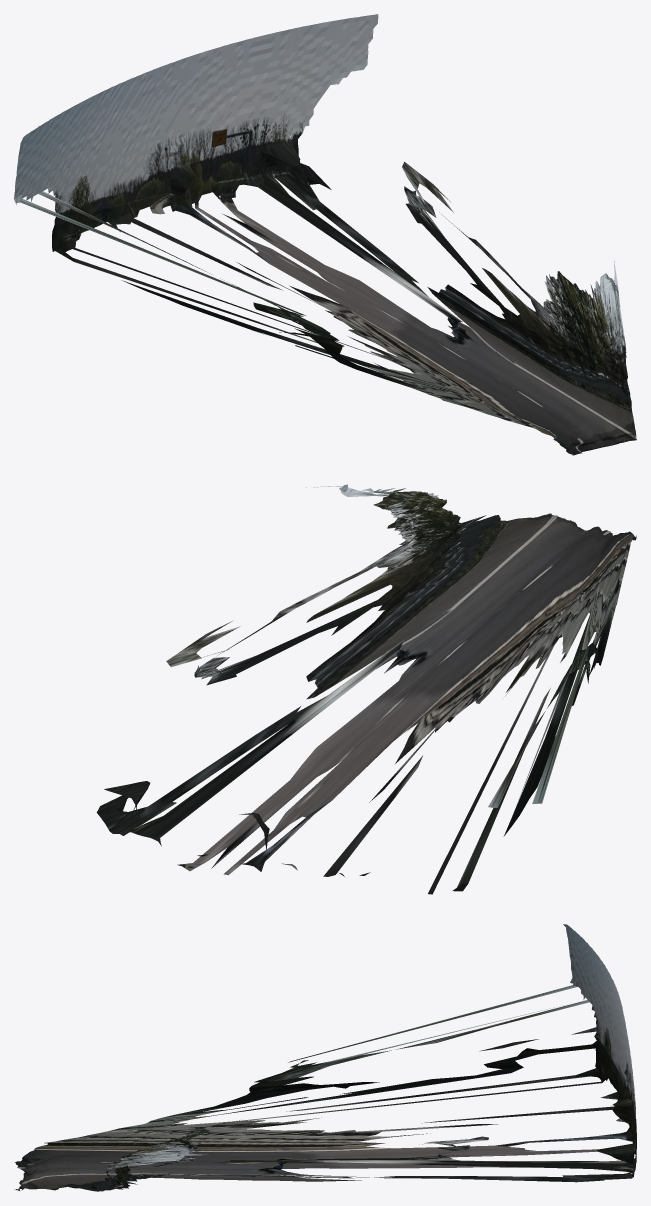
The picture shows the model from 3 angles, top to bottom: view 1: azimuth 30°, elevation 25°; view 2: azimuth 150°, elevation 25°; view 3: azimuth 270°, elevation 25°; orthographic projection. The views are drawn at different scales.
Visible parts, largest first — view 1: defaultobject; view 2: defaultobject; view 3: defaultobject.
Part boxes in pixels (box(x1,y1,x2,y2)): defaultobject: box(14, 14, 636, 455); defaultobject: box(96, 484, 636, 894); defaultobject: box(14, 924, 636, 1191).
Bounding box in the file's own units: 29.16 × 11.71 × 44.65.
Materials: 1 (1 with a texture image).
